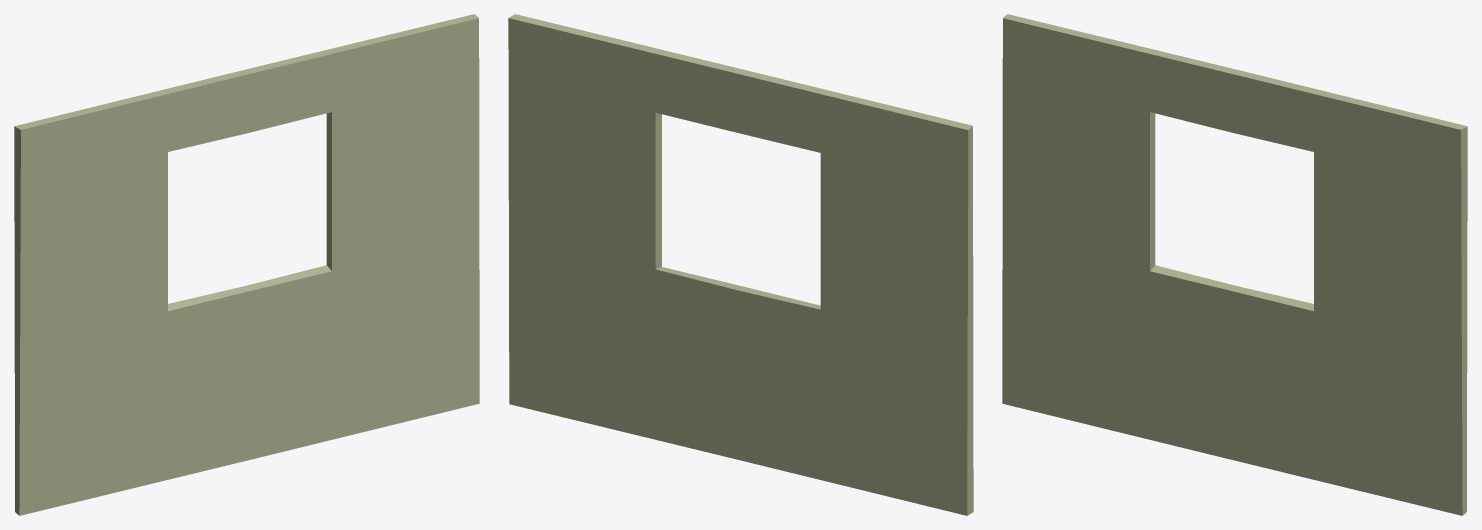
Rendered from Childrens_Room_Wall.fbx.
The picture shows the model from 3 angles, left to right: view 1: azimuth 30°, elevation 25°; view 2: azimuth 150°, elevation 25°; view 3: azimuth 330°, elevation 25°; orthographic projection.
Parts seen in each view (by area): view 1: Childrens_Room_Wall; view 2: Childrens_Room_Wall; view 3: Childrens_Room_Wall.
Part boxes in pixels (x1=…): Childrens_Room_Wall: x1=14, y1=14, x2=479, y2=515; Childrens_Room_Wall: x1=508, y1=14, x2=973, y2=515; Childrens_Room_Wall: x1=1002, y1=14, x2=1467, y2=515.
Size of the model in its own units: 501 by 402 by 11.11.
